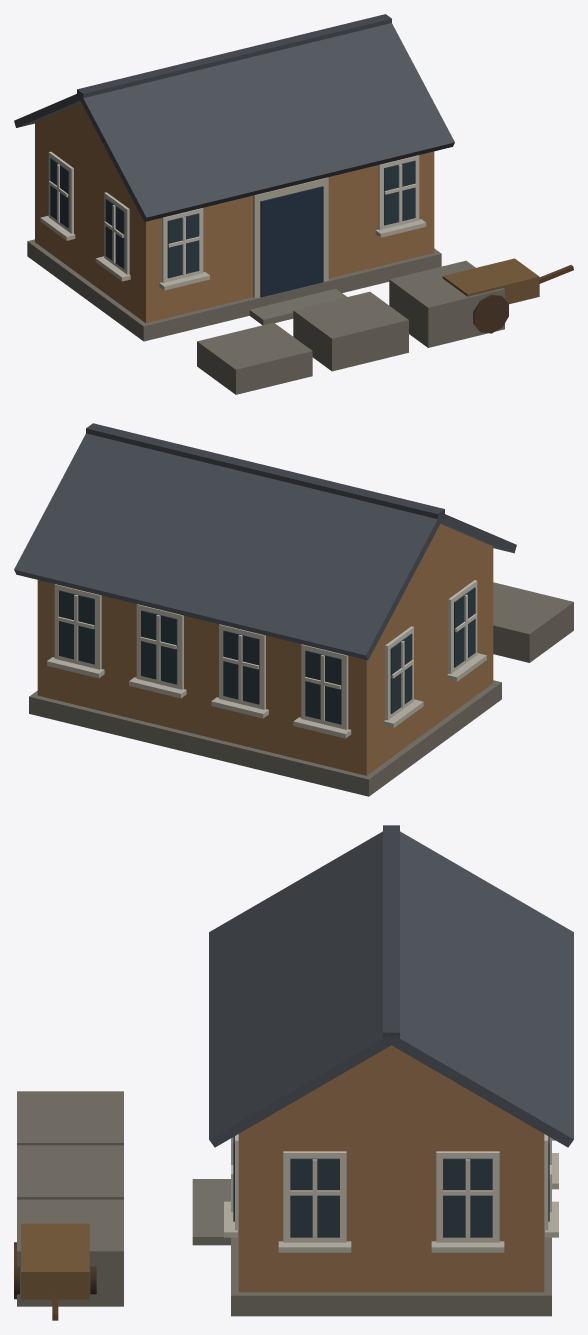
Rendered from procedural_road_depot@5.glb.
The picture shows the model from 3 angles, top to bottom: view 1: azimuth 30°, elevation 25°; view 2: azimuth 150°, elevation 25°; view 3: azimuth 270°, elevation 25°; orthographic projection. The views are drawn at different scales.
Parts seen in each view (by area): view 1: part_0; view 2: part_0; view 3: part_0.
Boxes of the visible parts, <box> form: part_0: <box>14,14,573,394</box>; part_0: <box>14,423,573,796</box>; part_0: <box>14,825,573,1320</box>.
Size of the model in its own units: 7.71 by 4.15 by 7.33.
